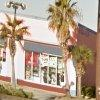Tree: (42, 2, 86, 56)
